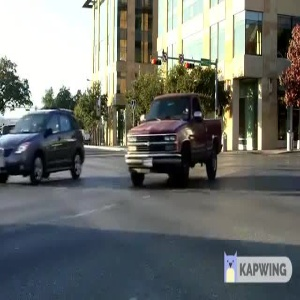suv: (1, 106, 94, 185)
truck: (118, 88, 232, 199)
